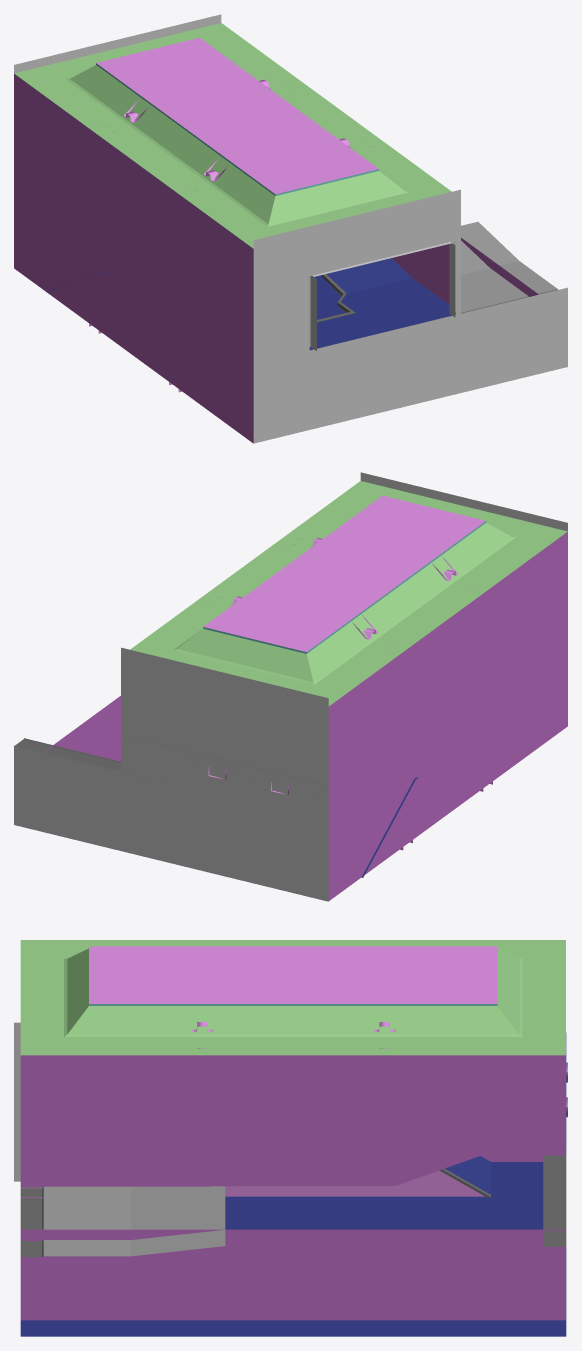
The model's file is RoomFirstPerson.fbx.
3 renders of one model, top to bottom at view 1: azimuth 30°, elevation 25°; view 2: azimuth 150°, elevation 25°; view 3: azimuth 270°, elevation 25°, orthographic. The views are drawn at different scales.
Visible parts, largest first — view 1: Room_FirstPerson, Room_FirstPerson_Floor, Room_FirstPerson_Platforms; view 2: Room_FirstPerson, Room_FirstPerson_Platforms; view 3: Room_FirstPerson, Room_FirstPerson_Floor, Room_FirstPerson_Platforms.
Boxes of the visible parts, box(x1,y1,x2,y2) form: Room_FirstPerson: box(14, 14, 567, 443); Room_FirstPerson_Floor: box(47, 258, 455, 350); Room_FirstPerson_Platforms: box(89, 79, 557, 392); Room_FirstPerson: box(14, 472, 567, 901); Room_FirstPerson_Platforms: box(15, 537, 492, 850); Room_FirstPerson: box(14, 940, 565, 1320); Room_FirstPerson_Floor: box(20, 1035, 566, 1336); Room_FirstPerson_Platforms: box(20, 1022, 567, 1257).
Bounding box in the file's own units: 18.29 × 12.3 × 24.39.
